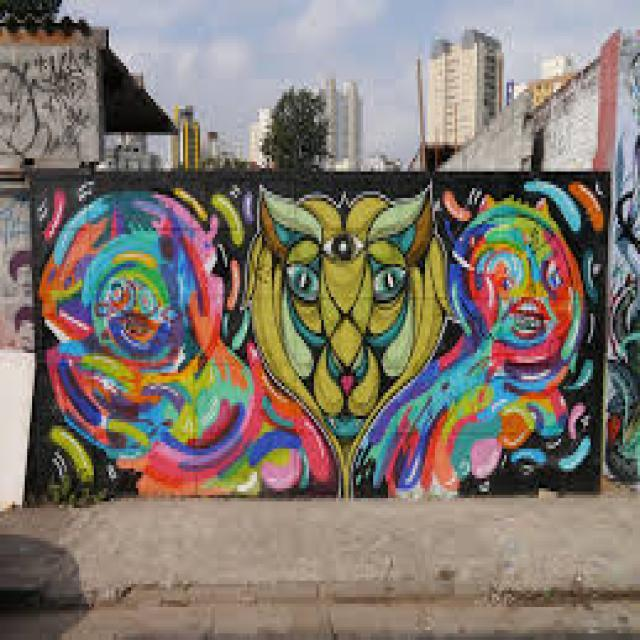-: (38, 181, 602, 497), (610, 131, 640, 487), (0, 53, 92, 164), (11, 250, 37, 342)
